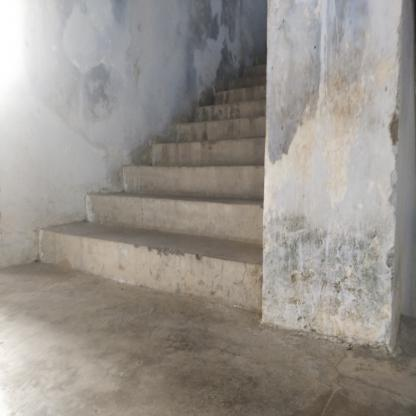stairs: (122, 167, 261, 316)
